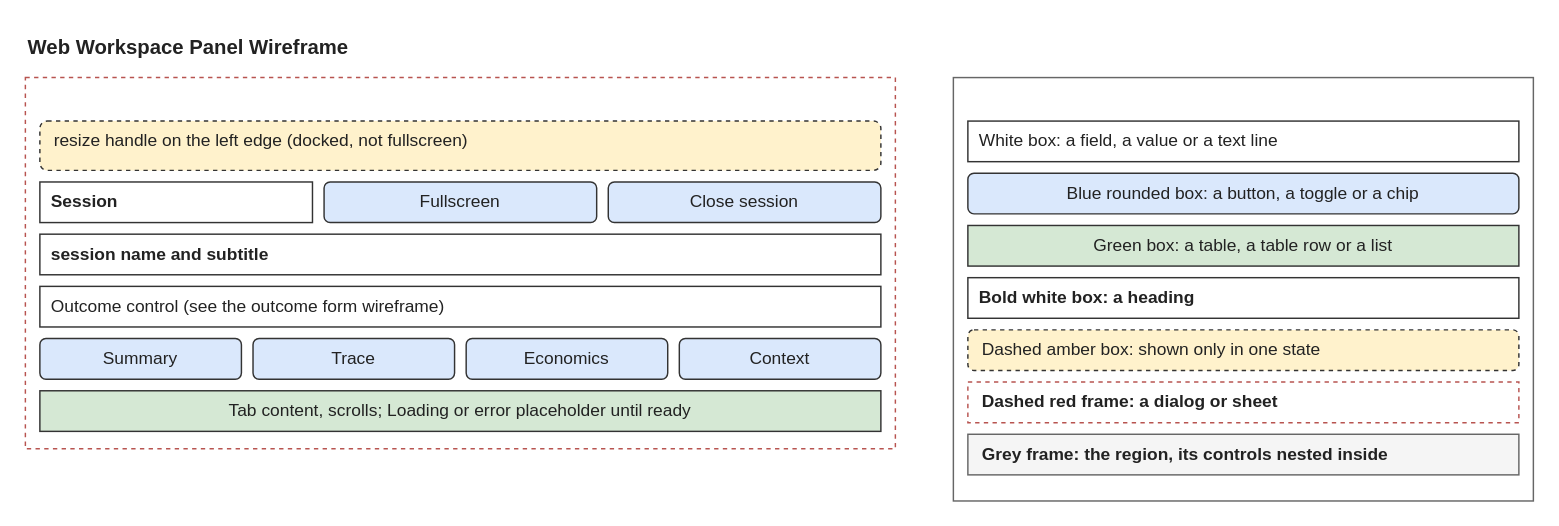
Image size: 1559x526. Some labels were removed from this diagram. The shapes that lost their labels are listed below. From the top down, each one's box as (x1, y1, x2, y2) in pixels, then its label:
(24, 76, 895, 449): Session workspace: docked aside, or sheet from the right
(952, 76, 1533, 501): Legend
